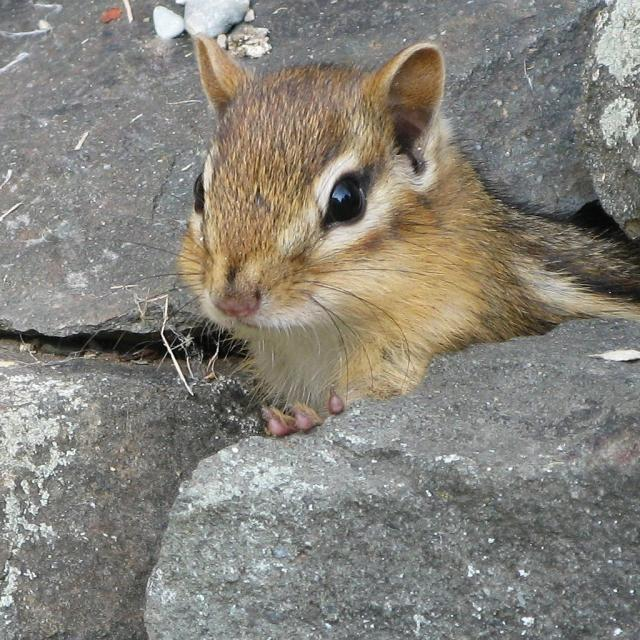rat: (172, 31, 640, 436)
